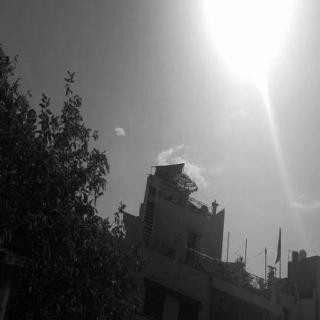other: (196, 0, 298, 118)
